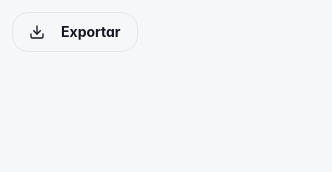
Test: ExportButton › lista apenas os formatos passados via prop
What coordinates should you click on to do the following:
click the button "Exportar"
I would click on:
 (75, 32)
Its box is 12,12 -> 138,52.
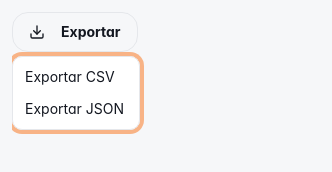
Now the menu item "Exportar CSV" is shown, box 25,68 -> 115,85
Now the menu item "Exportar JSON" is shown, box 25,100 -> 124,117
